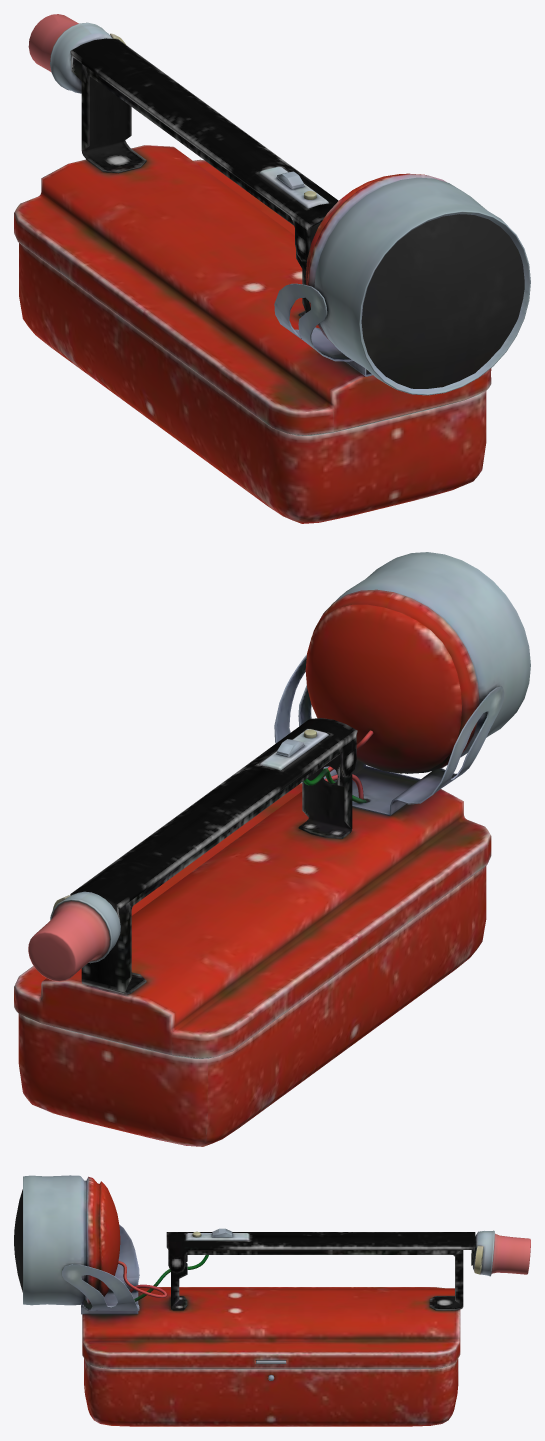
Rendered from vintageFlashlight.glb.
The picture shows the model from 3 angles, top to bottom: view 1: azimuth 30°, elevation 25°; view 2: azimuth 150°, elevation 25°; view 3: azimuth 270°, elevation 25°; orthographic projection. The views are drawn at different scales.
Visible parts, largest first — view 1: vintage_flashlight; view 2: vintage_flashlight; view 3: vintage_flashlight.
Part boxes in pixels (left/top/right/bottom): vintage_flashlight: left=14, top=14, right=530, bottom=523; vintage_flashlight: left=14, top=552, right=530, bottom=1146; vintage_flashlight: left=14, top=1175, right=530, bottom=1426.
Size of the model in its own units: 0.0959 by 0.1443 by 0.3055.
Materials: 2 (2 with a texture image).
